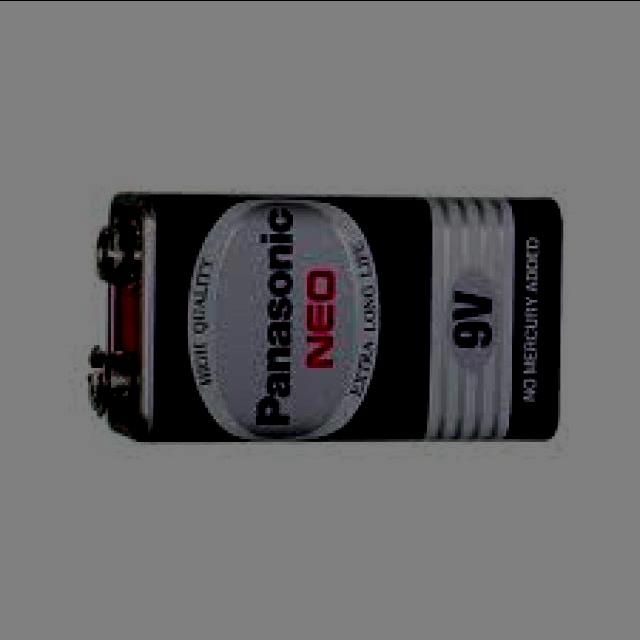9V: (88, 196, 558, 438)
